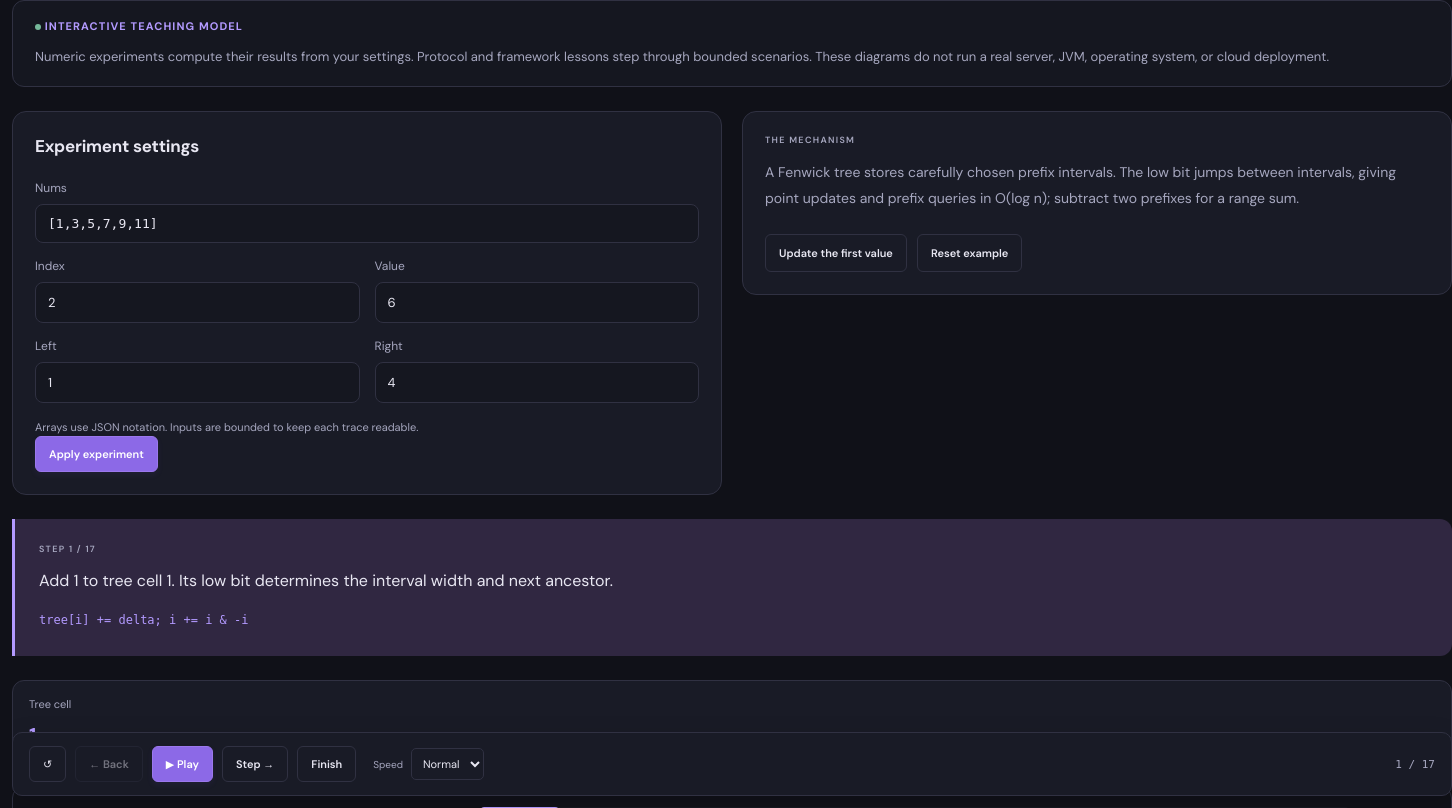
adv-fenwick supports valid alternate input, finish and highlighted code
Click the button "Update the first value" at (836, 253), box [765, 234, 907, 272]
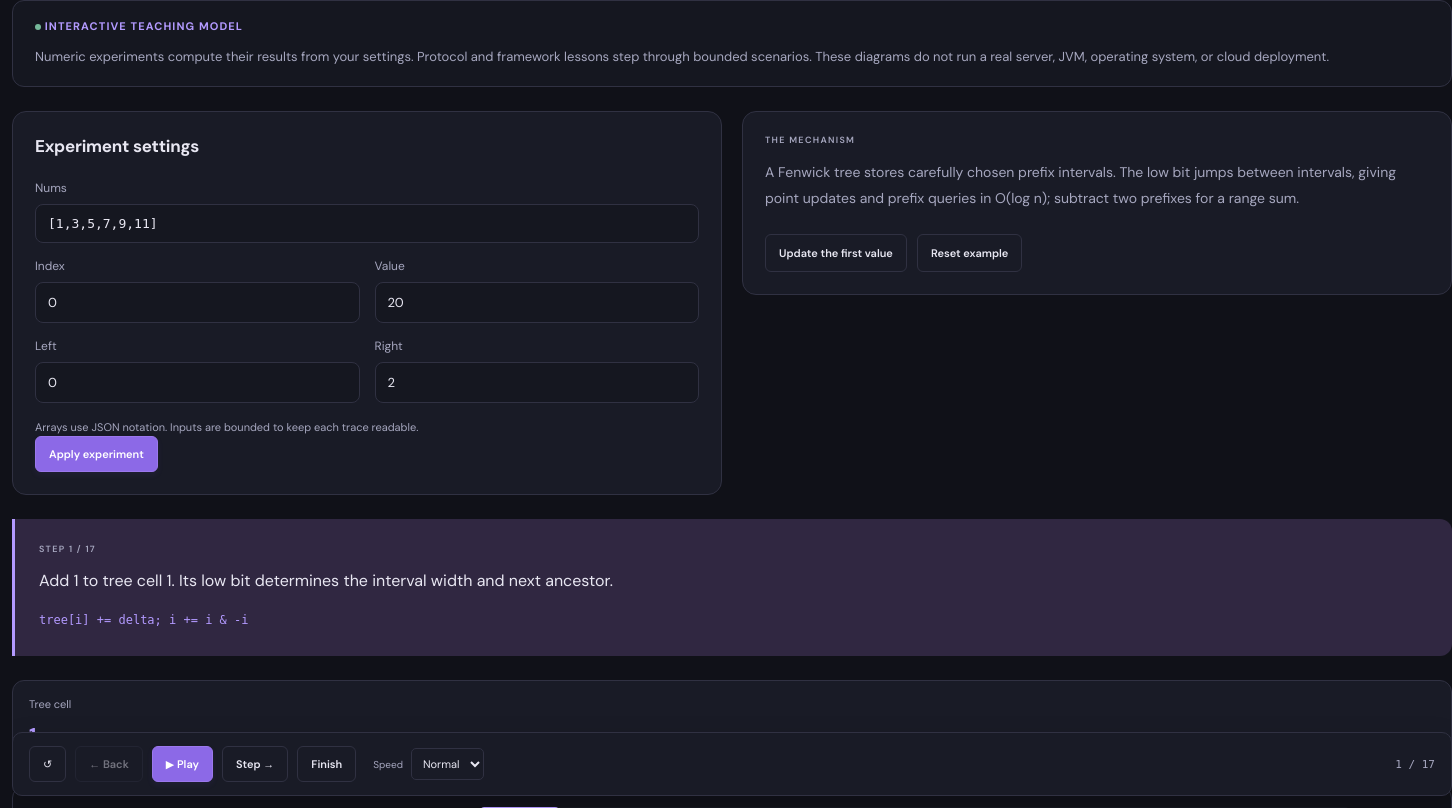
Click the button "Finish" at (327, 764), box [297, 746, 356, 782]
(page scrolled)
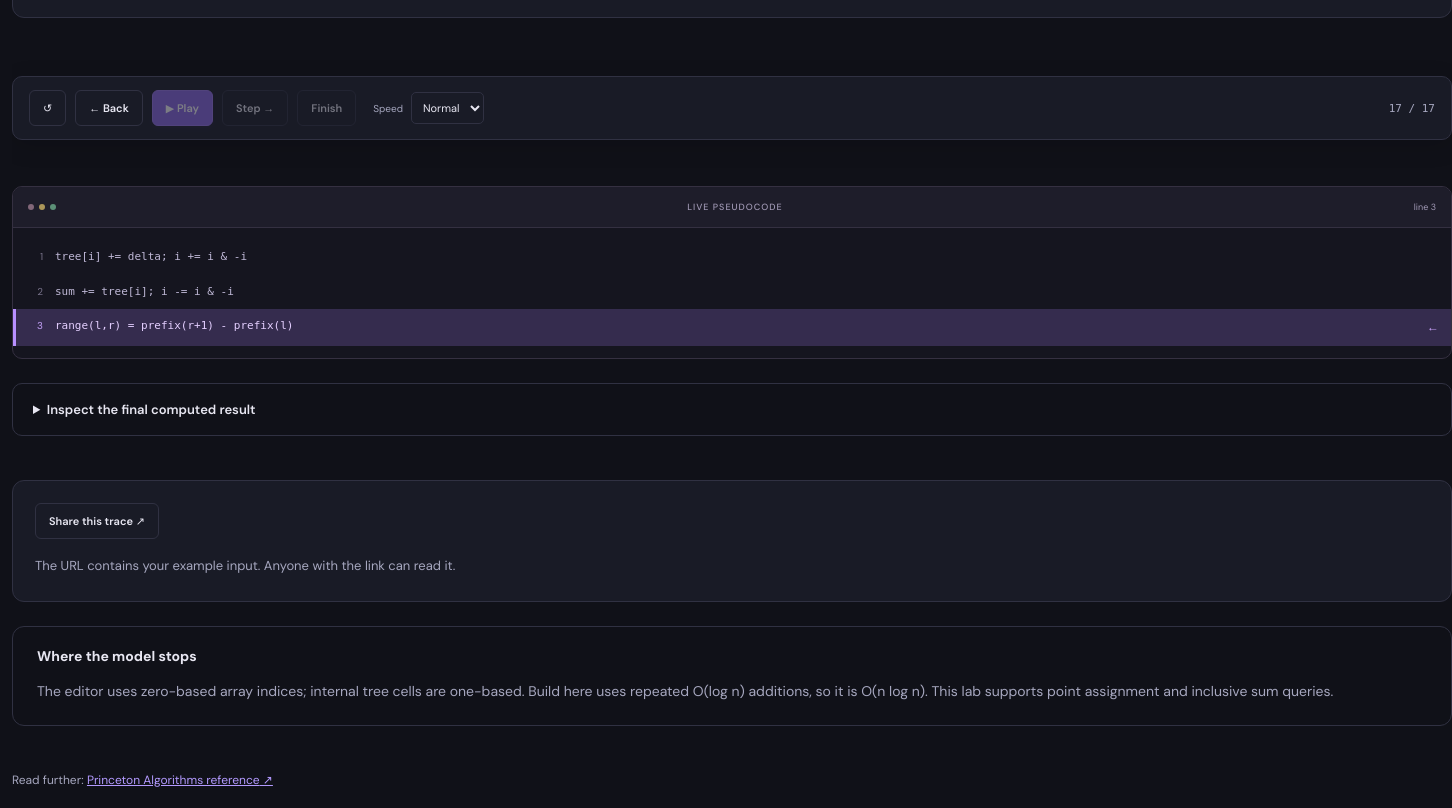
Expected: the heading "Inspect the final computed result" is shown, [47, 401, 256, 418]
